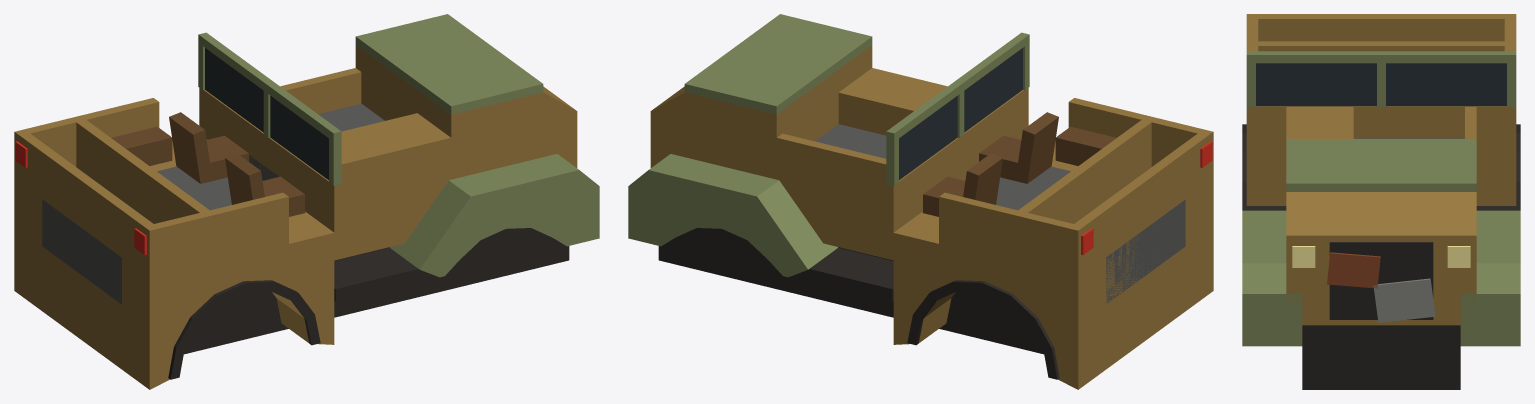
Rendered from base_wagon.glb.
3 renders of one model, left to right at view 1: azimuth 30°, elevation 25°; view 2: azimuth 150°, elevation 25°; view 3: azimuth 270°, elevation 25°, orthographic.
Visible parts, largest first — view 1: base_wagon; view 2: base_wagon; view 3: base_wagon.
Part boxes in pixels (x1,y1,x2,y2): base_wagon: [14, 14, 599, 389]; base_wagon: [628, 14, 1213, 389]; base_wagon: [1242, 14, 1520, 389].
Size of the model in its own units: 4.53 by 2.02 by 2.42.
